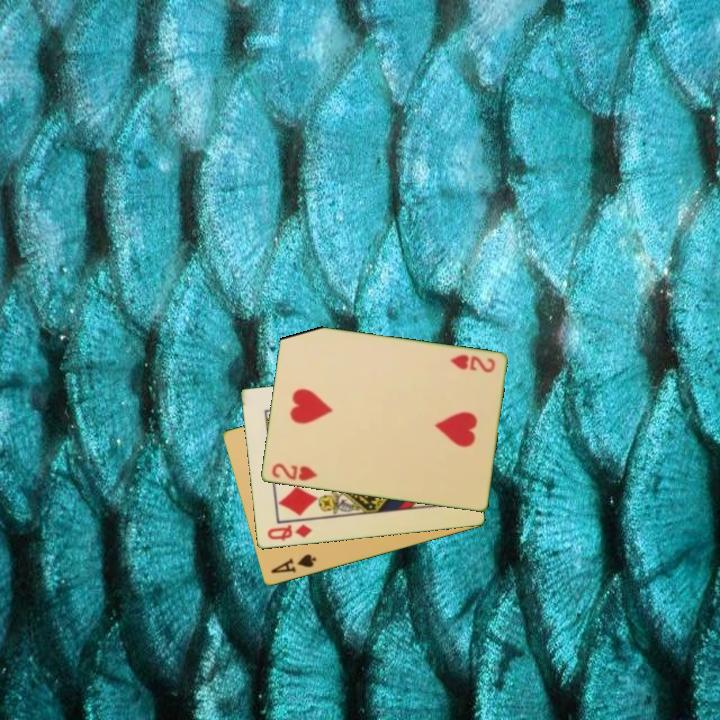2h: (446, 351, 498, 376), (268, 460, 320, 484)
As: (267, 551, 319, 577)
Qd: (264, 521, 315, 544)
